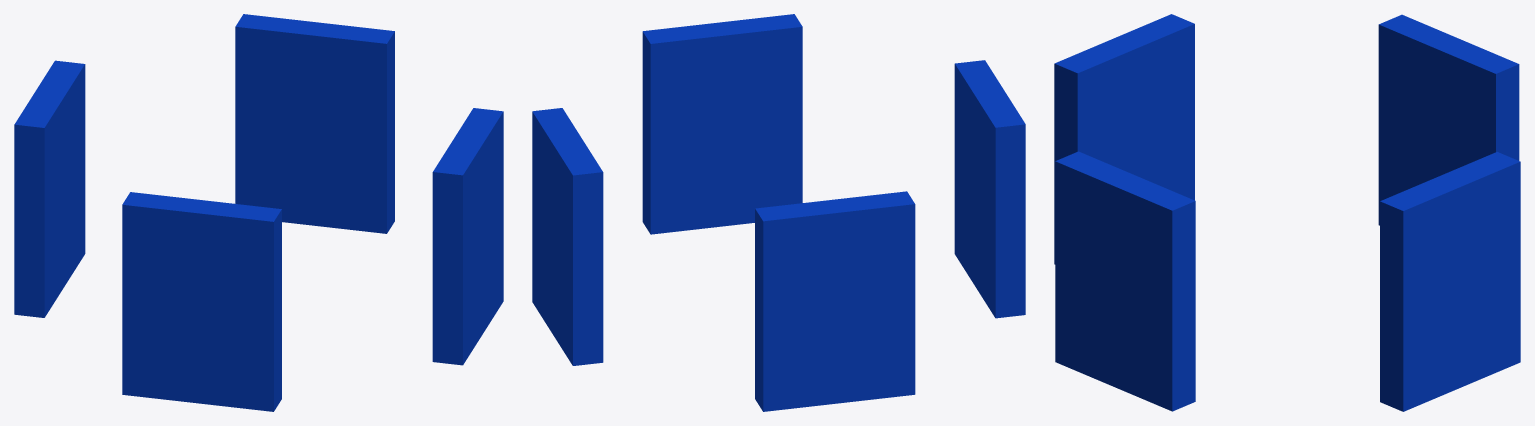
File: tower_windows.obj
3 views of the same model, side by side, from view 1: azimuth 30°, elevation 25°; view 2: azimuth 150°, elevation 25°; view 3: azimuth 270°, elevation 25° (orthographic). The views are drawn at different scales.
Visible parts, largest first — view 1: window.001_Cube.007, window.003_Cube.005, window_Cube.004, window.002_Cube.006; view 2: window_Cube.004, window.002_Cube.006, window.001_Cube.007, window.003_Cube.005; view 3: window.002_Cube.006, window.003_Cube.005, window_Cube.004, window.001_Cube.007.
Boxes of the visible parts, x1,y1,x2,y2 form: window.001_Cube.007: (122,192,281,411); window.003_Cube.005: (235,14,394,233); window_Cube.004: (14,60,85,317); window.002_Cube.006: (432,108,503,365); window_Cube.004: (755,191,915,411); window.002_Cube.006: (642,14,802,234); window.001_Cube.007: (954,60,1025,318); window.003_Cube.005: (532,108,603,365); window.002_Cube.006: (1055,151,1195,411); window.003_Cube.005: (1380,152,1520,411); window_Cube.004: (1378,14,1519,225); window.001_Cube.007: (1054,14,1194,264).
Size of the model in its own units: 28.26 by 13.42 by 28.24.
